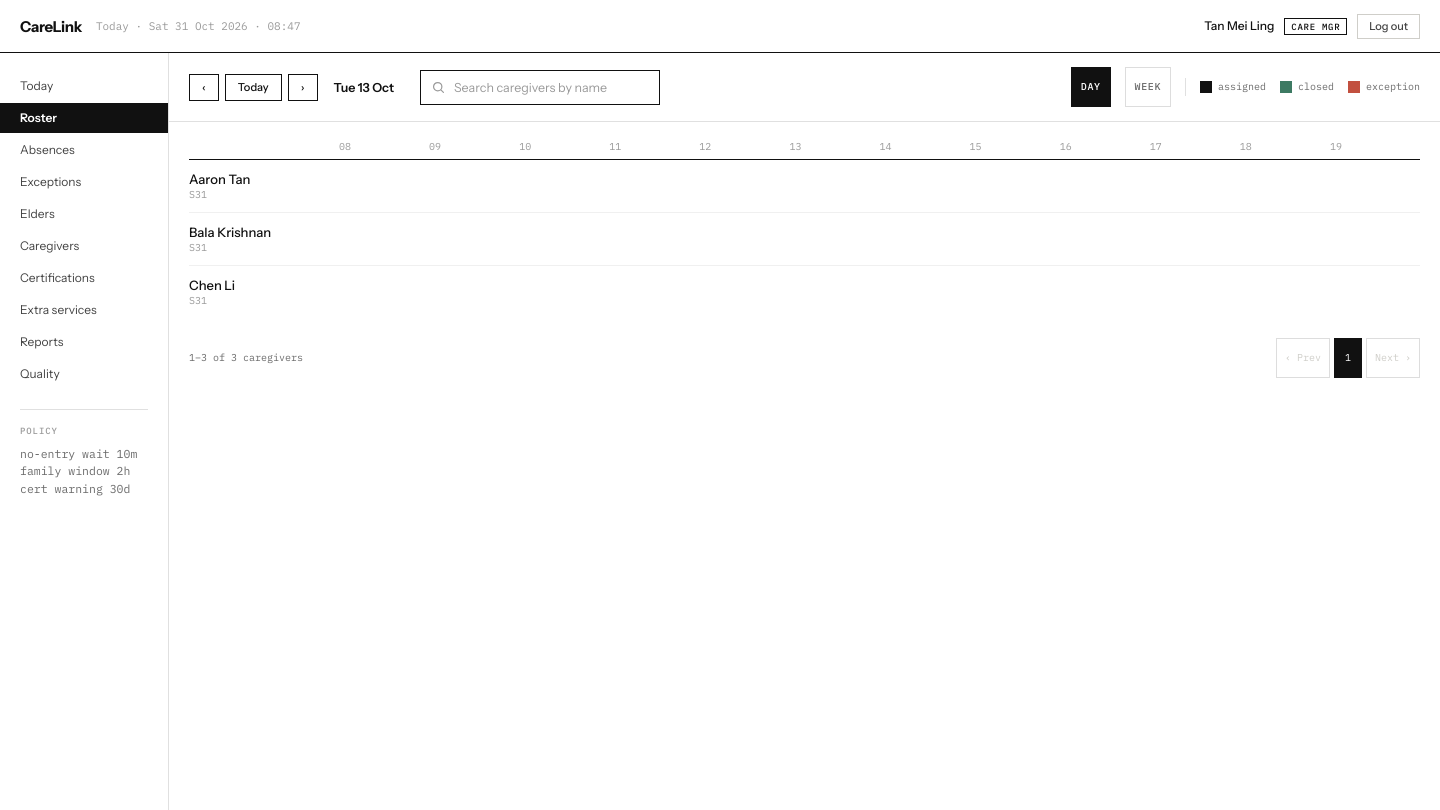
Scenario: narrows the roster to caregivers whose name matches the search, in Day and Week
The image size is (1440, 810).
In the search field labelled "Search caregivers by name": [551, 87] box left=454, top=80, right=648, bottom=94, type "bala"
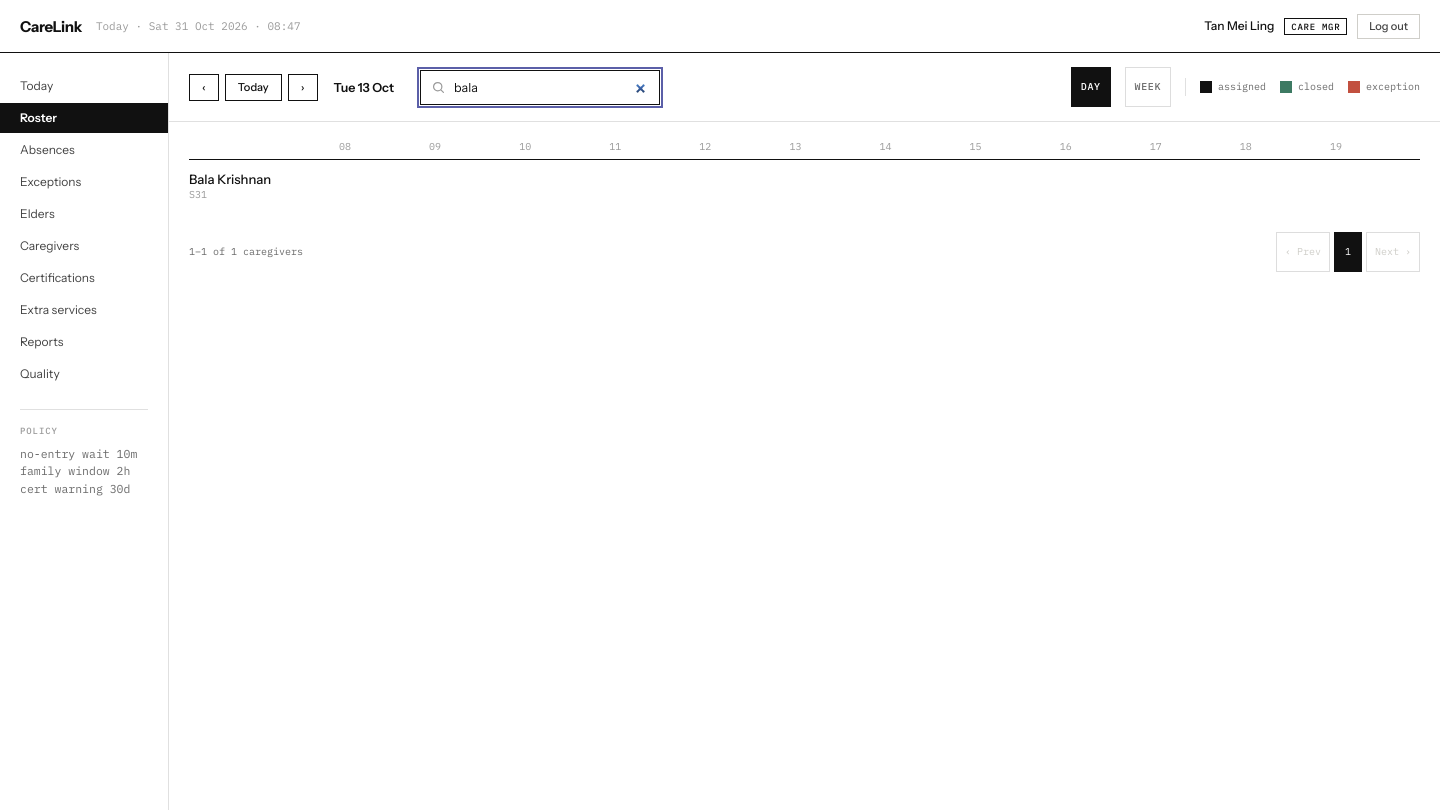
Expected: the element "Bala Krishnan S31" is shown, left=189, top=171, right=271, bottom=201
Expected: the text "1–1 of 1 caregivers" is shown, left=189, top=247, right=303, bottom=257
Expected: the text "Aaron Tan" is gone
Click the button "WEEK": [1148, 87] box left=1125, top=67, right=1171, bottom=107
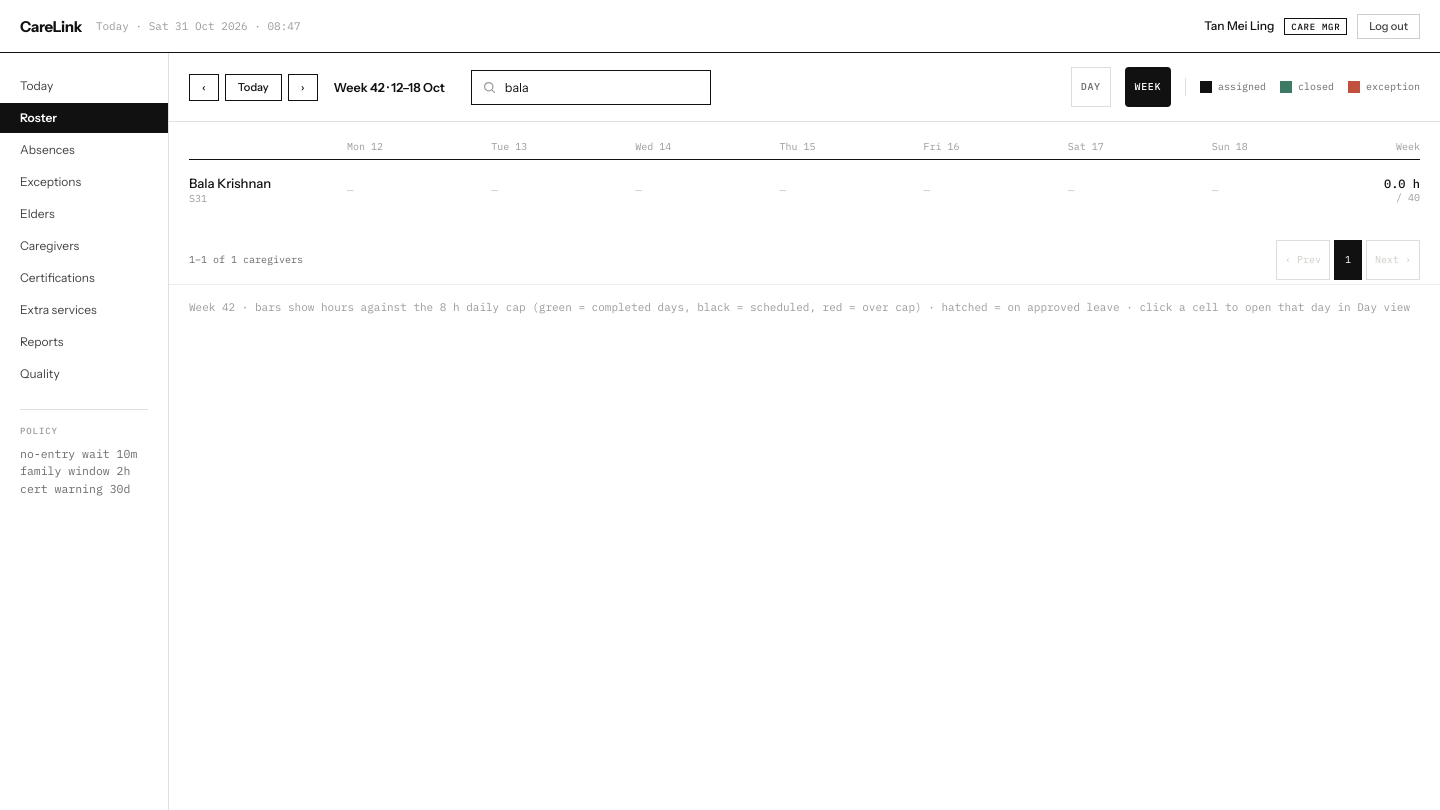
Expected: the element "Bala Krishnan S31" is shown, left=189, top=175, right=271, bottom=205
Expected: the text "Chen Li" is not shown
Replace the text in the search field with "zzz": [602, 87] box left=505, top=80, right=699, bottom=94
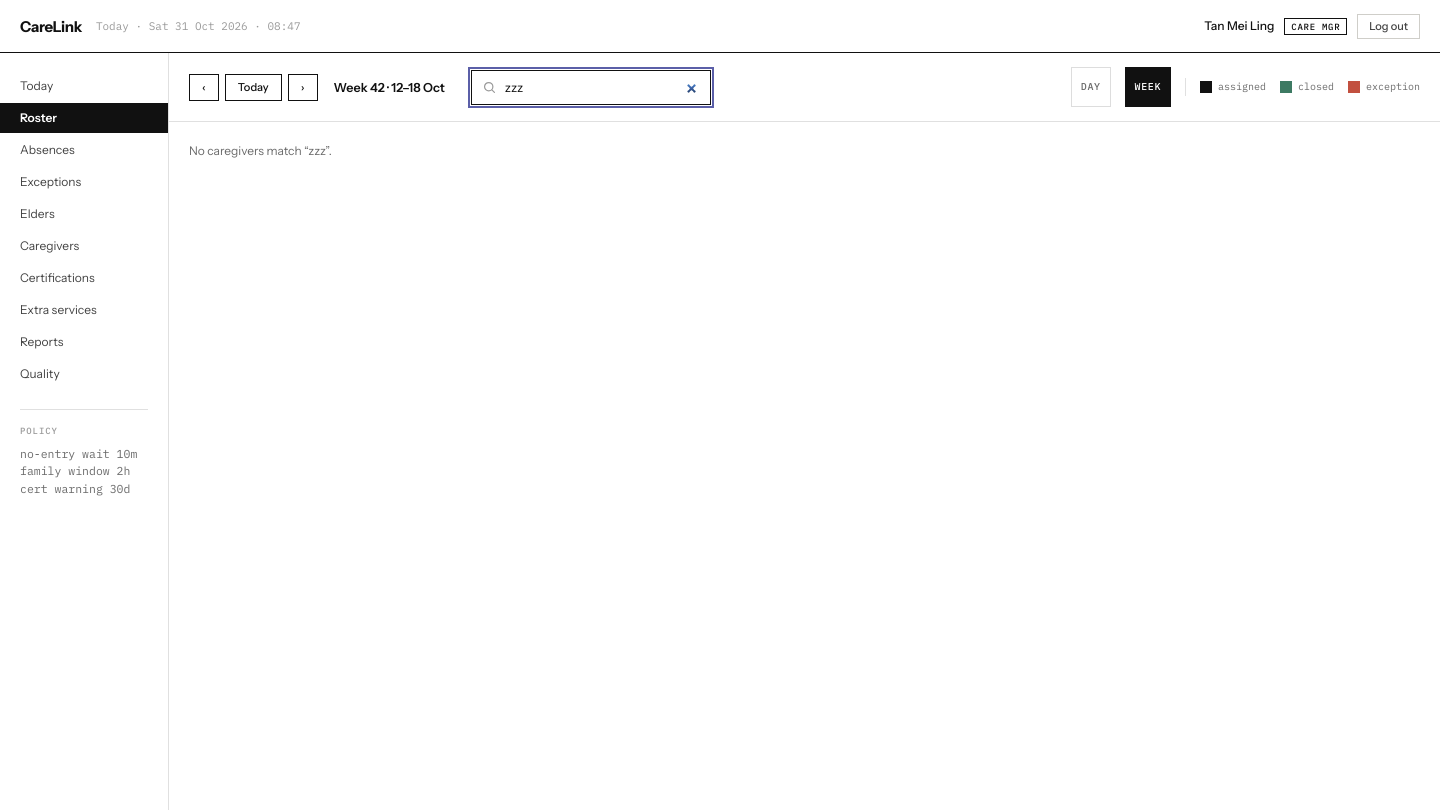
Expected: the text "No caregivers match “zzz”." is shown, left=189, top=143, right=332, bottom=158
